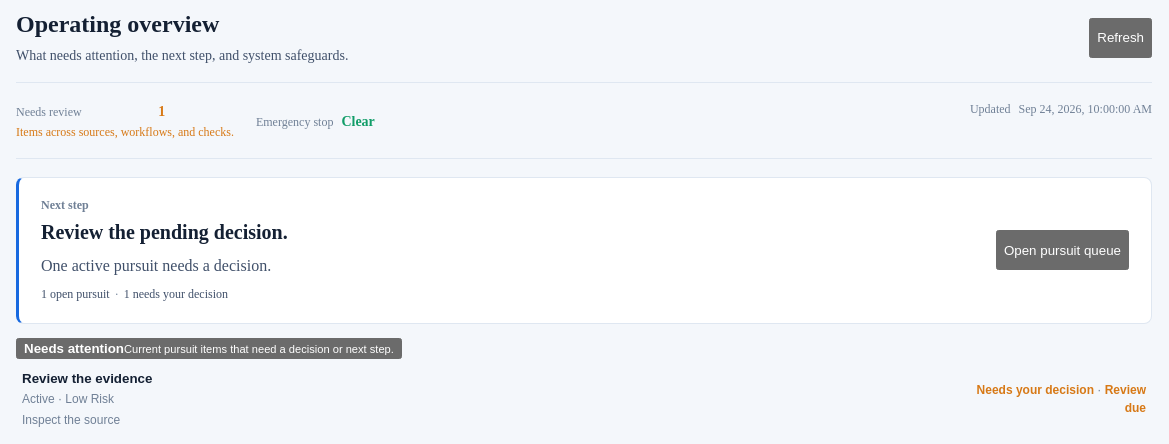
Test: HAIOSComponent progressive control room › shows Basic attention by default but preserves an explicit collapsed preference
The width and height of the screenshot is (1169, 444).
Click the button that starts with "Needs attention" at (209, 348), box [16,338,402,359]
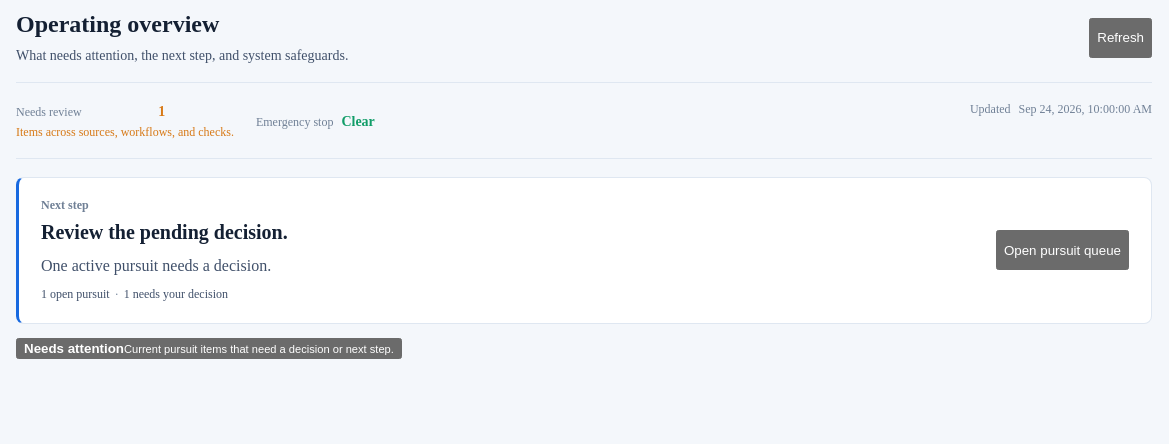
Expected: the button with class "spotlight-item" is gone
